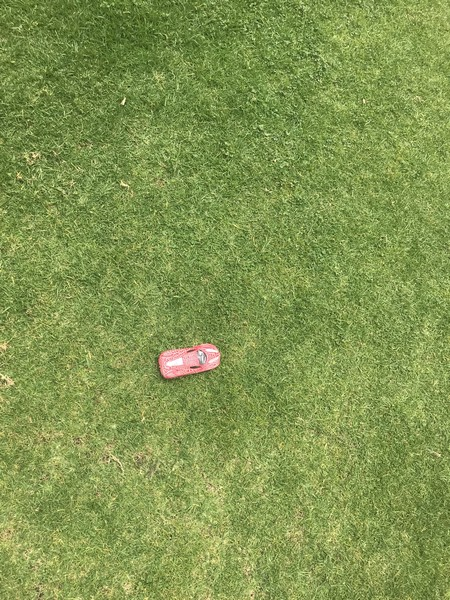RC: (155, 341, 223, 380)
